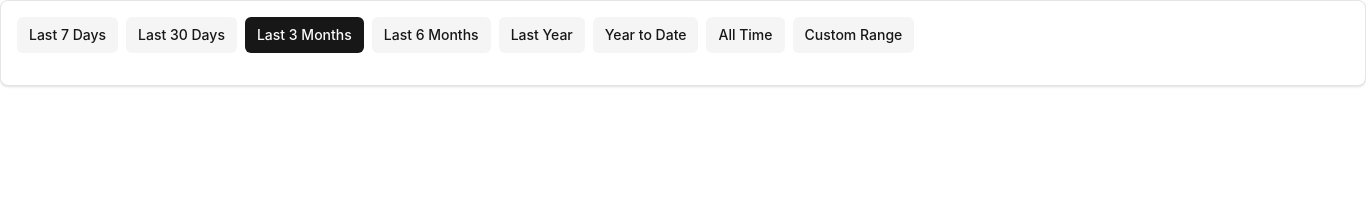
Test case: TimeRangeSelector › should show custom date inputs when Custom Range is clicked
This screenshot has width=1366, height=202.
Step 1. Click the button "Custom Range" → (853, 35), box x1=792 y1=17 x2=914 y2=53
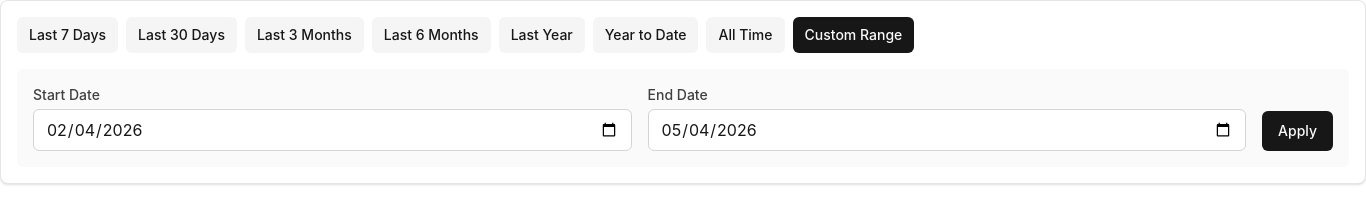
expect the date field labelled "Start Date" is shown: met, box x1=33 y1=109 x2=632 y2=151
expect the date field labelled "End Date" is shown: met, box x1=648 y1=109 x2=1246 y2=151
expect the button "Apply" is shown: met, box x1=1262 y1=111 x2=1333 y2=151
